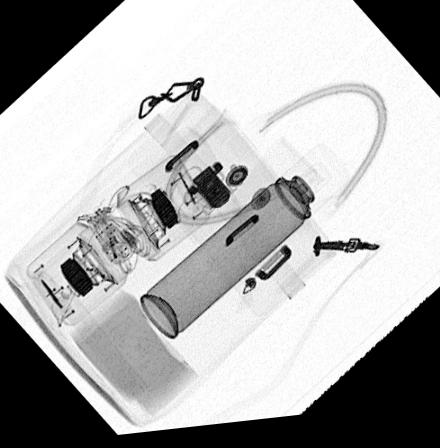Sprayer: (138, 148, 351, 345)
